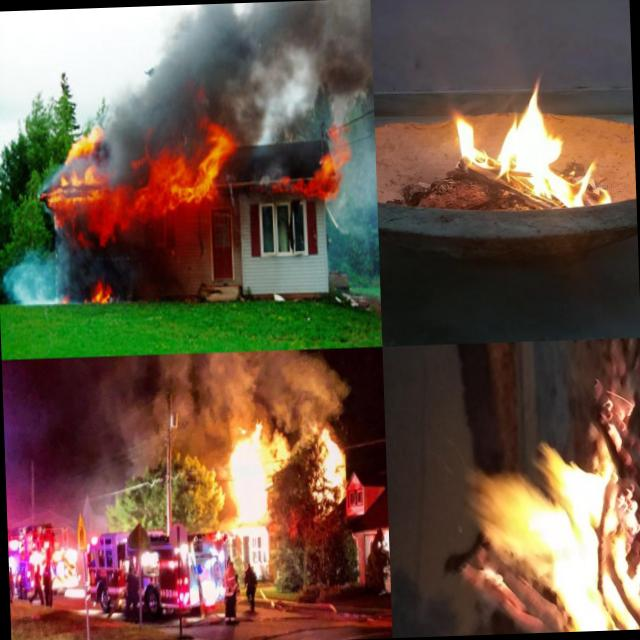fire: (382, 353, 621, 638), (449, 83, 603, 210), (54, 173, 215, 224), (131, 128, 240, 174), (226, 423, 270, 527), (274, 143, 340, 209), (314, 420, 349, 499), (66, 125, 104, 158), (84, 280, 114, 306)
smoke: (81, 2, 266, 146), (88, 348, 362, 430), (260, 0, 374, 172), (0, 237, 99, 308), (170, 425, 227, 466), (268, 421, 315, 467), (118, 426, 166, 468)
